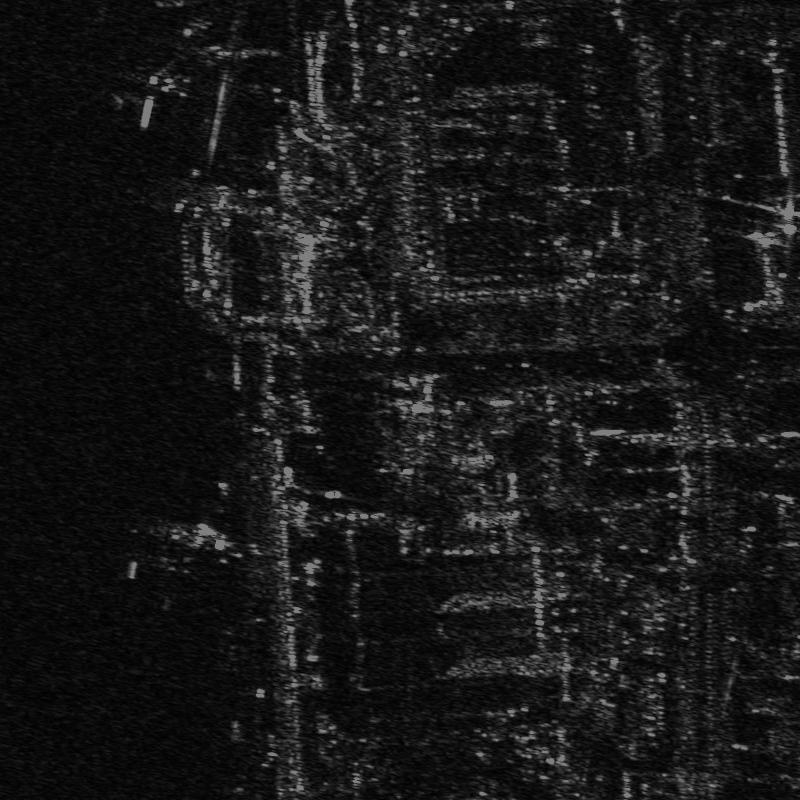A220: (117, 512, 256, 582)
